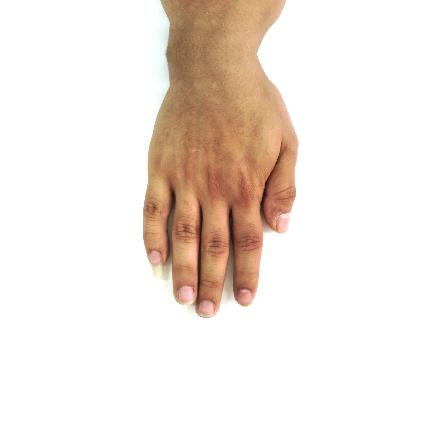Nail: (148, 251, 163, 279), (196, 301, 216, 318), (236, 289, 254, 307), (276, 212, 291, 233), (178, 286, 195, 304)
